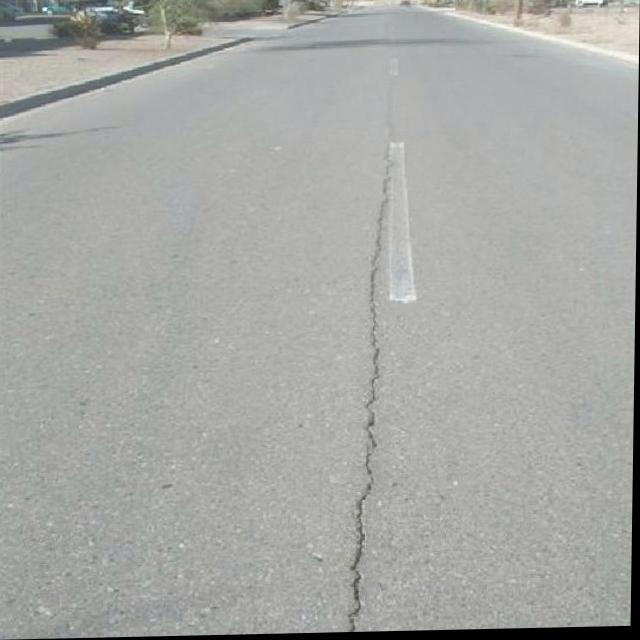Crack: (324, 381, 424, 629), (321, 250, 429, 439), (322, 106, 427, 291)
